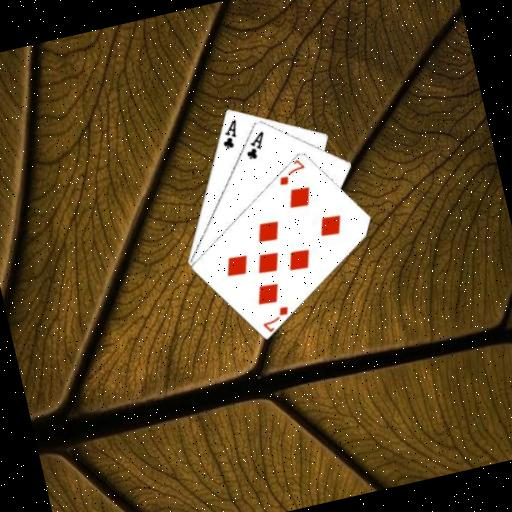7D: (272, 155, 310, 188), (257, 302, 294, 334)
AC: (239, 127, 272, 162), (214, 116, 244, 152)
